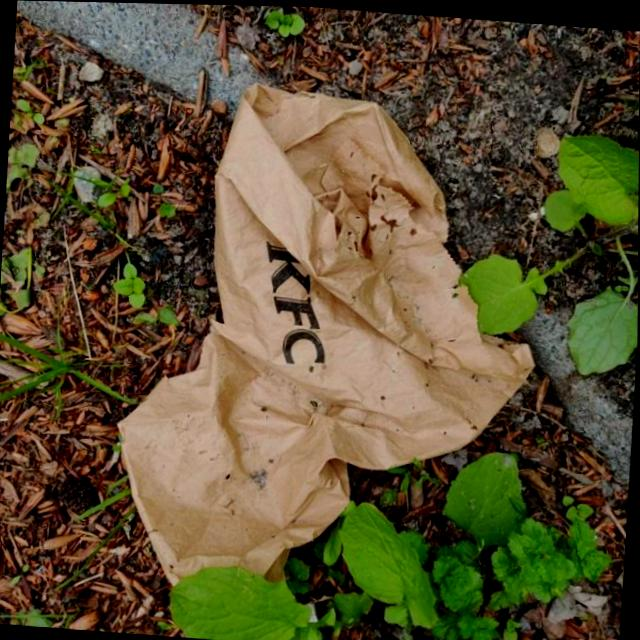Paper: (104, 69, 553, 611)
